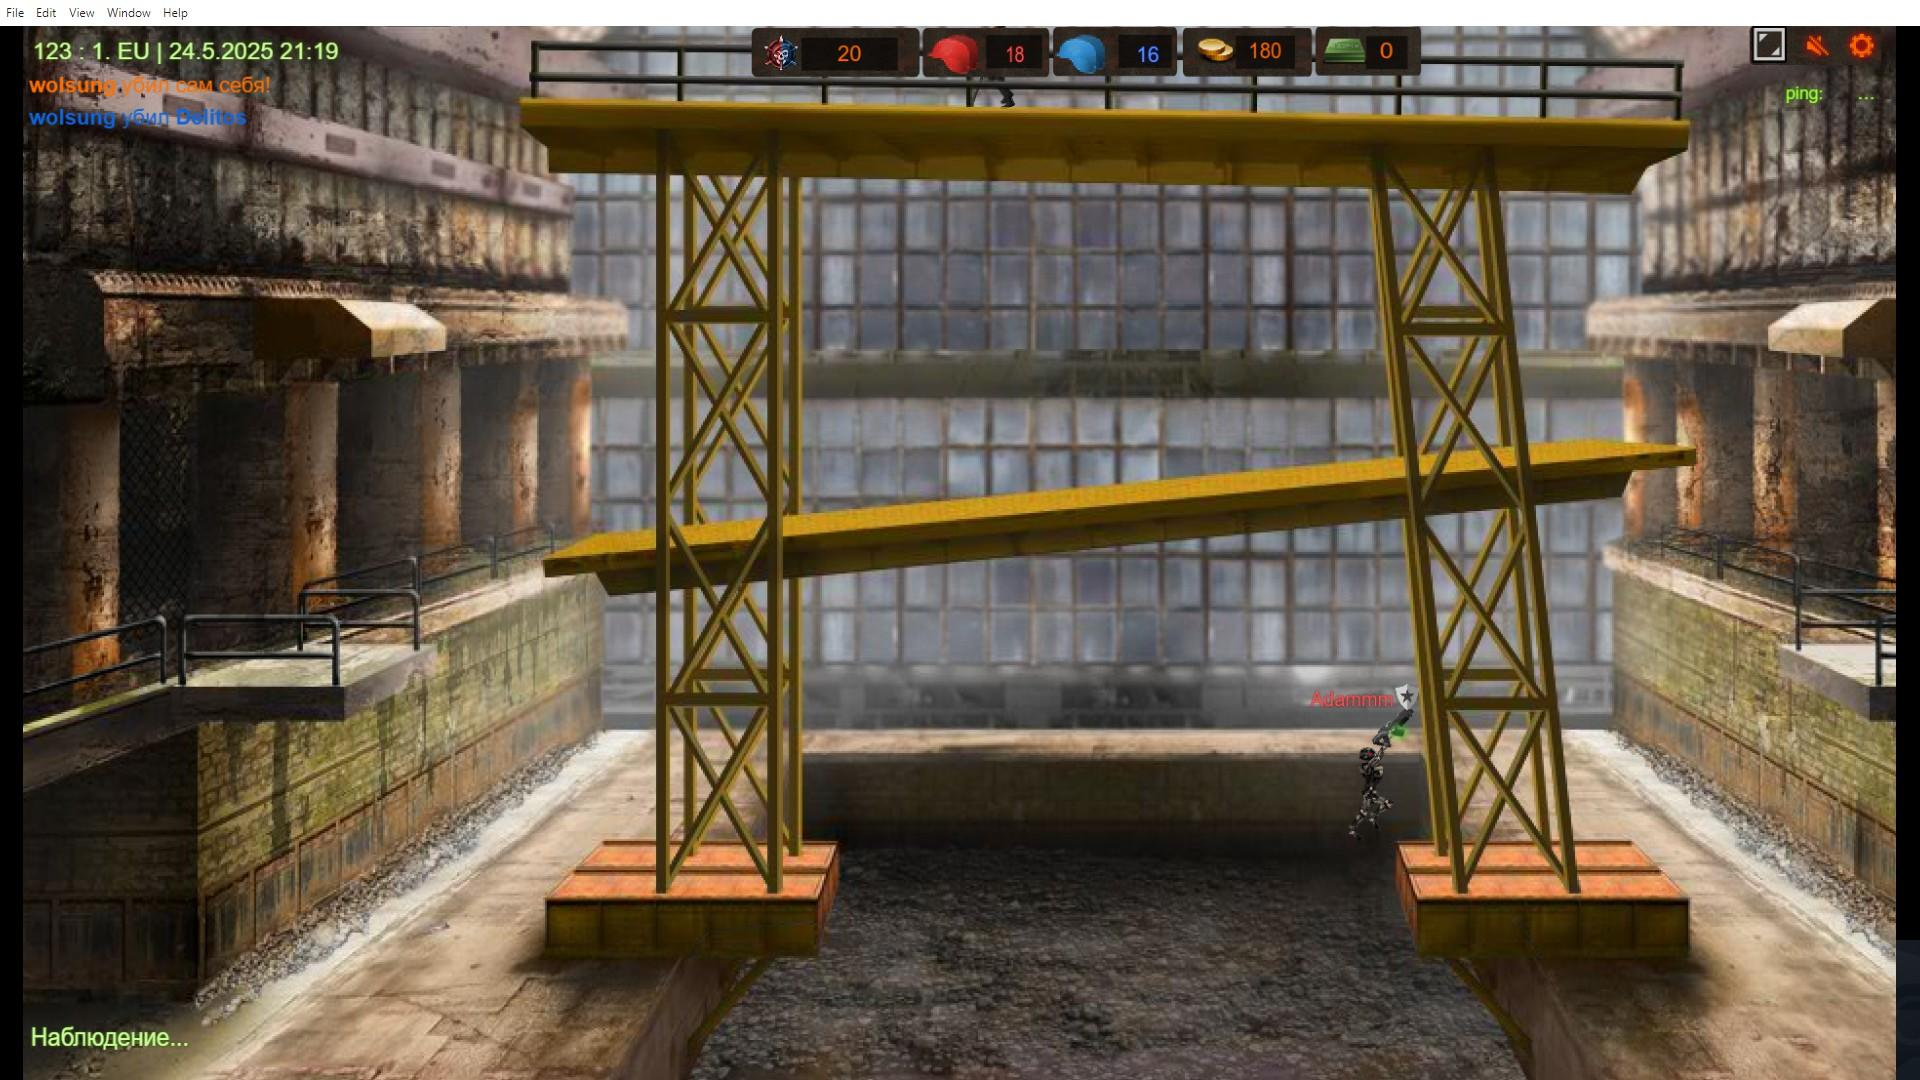enemy: (1357, 746, 1385, 833)
